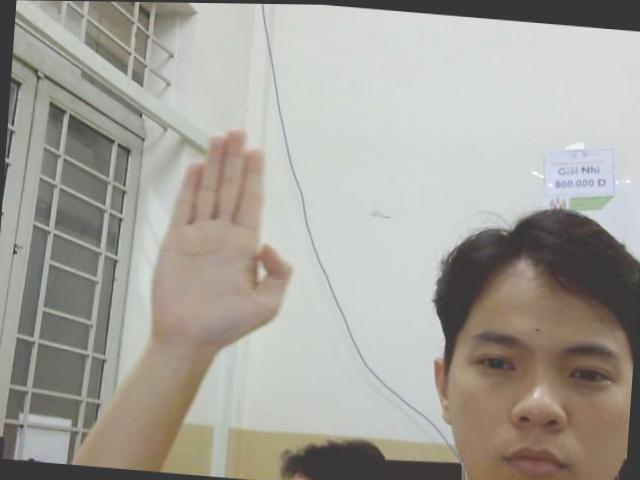B: (138, 108, 312, 339)
